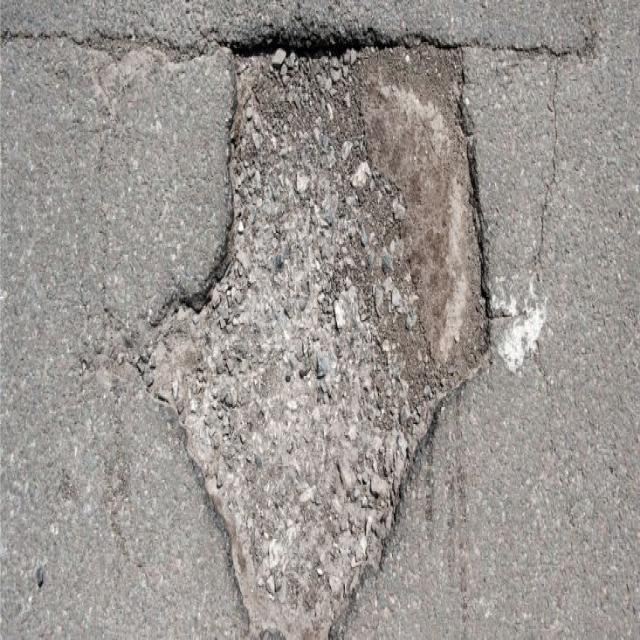pothole: (130, 19, 500, 638)
